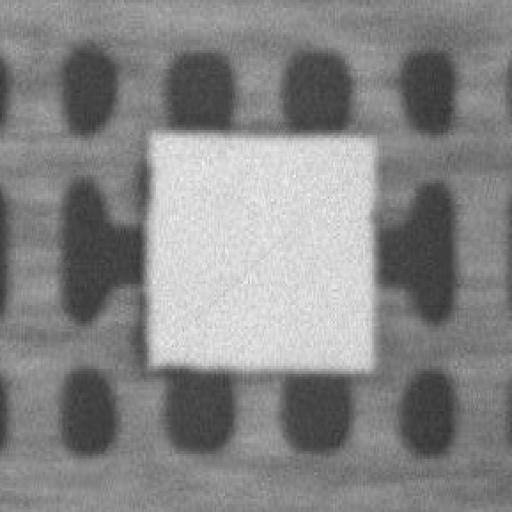DIE_CRACK: (262, 118, 512, 222)
